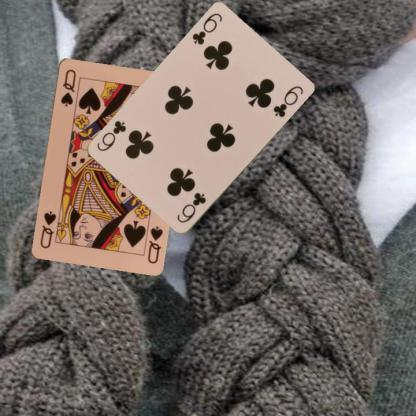6c: (190, 10, 224, 47), (174, 190, 207, 225)
Qs: (58, 66, 77, 108), (145, 223, 164, 265)
